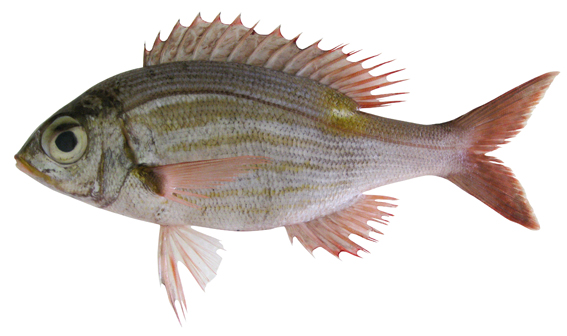fish: (14, 12, 560, 326)
